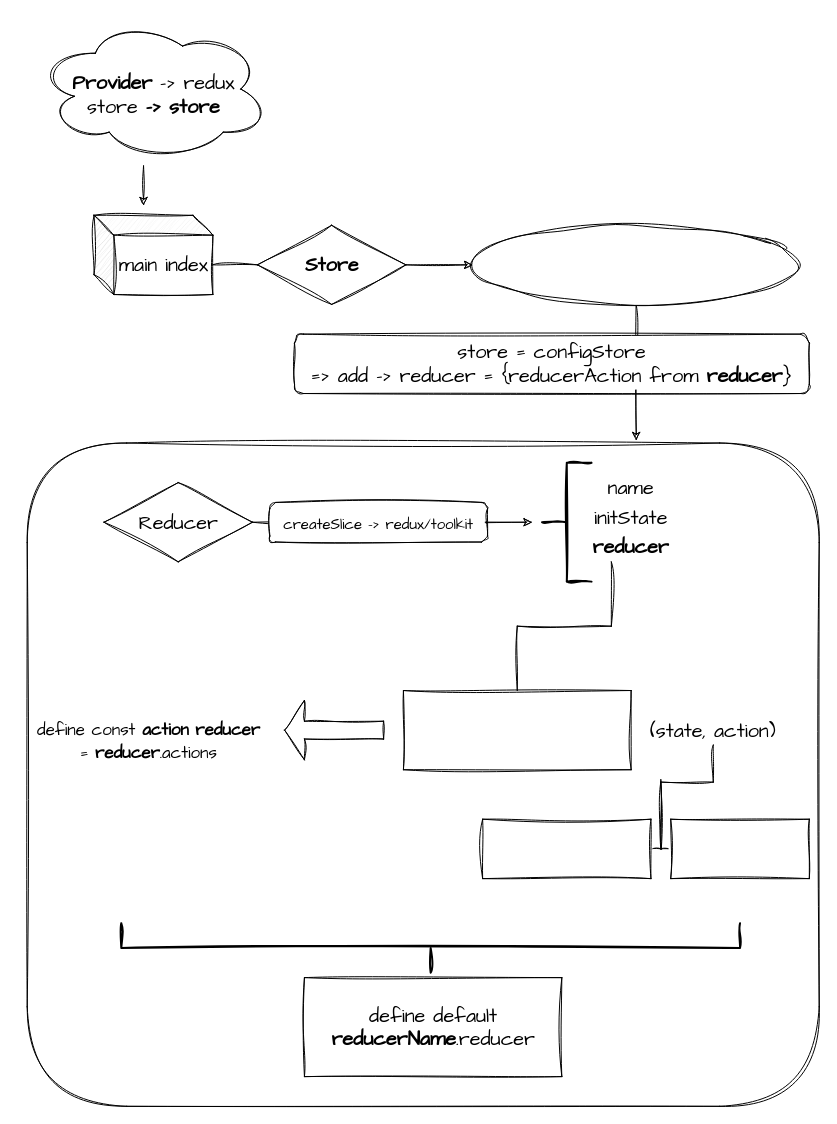
Some shapes in this 837 by 1124 pixel diagram are drawn without their labels. Here are the shapes that lost their labels. From the top down, the centre of each, then its label:
At (x=635, y=264): "configStore -> redux reducerAction -> reducer".
At (x=516, y=730): "action reducer (get, add, edit, update,..)".
At (x=566, y=848): "state on initState".
At (x=739, y=848): "action.payload".
